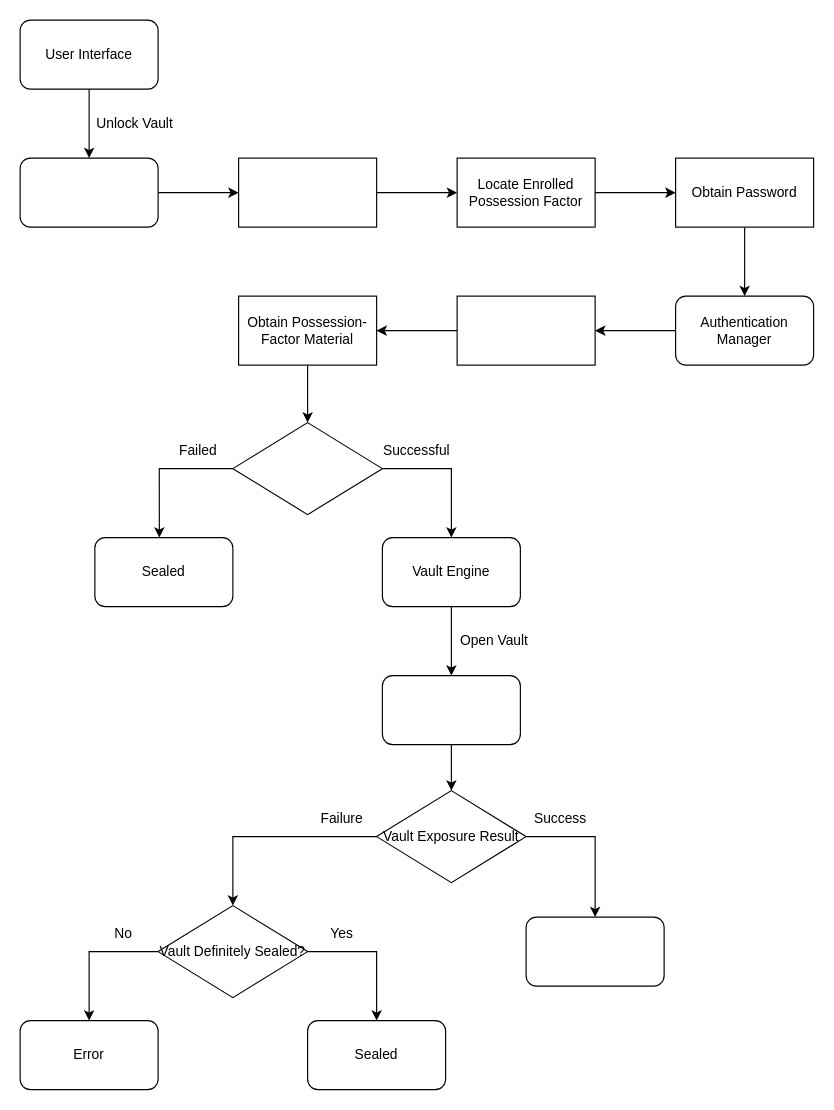
The diagram is 834 pixels wide and 1110 high, and some of its shapes have lost their labels. The shapes that lost their labels are listed below. From the top down, each one's centre as x and y in pixels, then its label:
the point at 88,192: Vault Controller
the point at 307,192: Read Vault Security Metadata
the point at 525,330: Derive Password Material
the point at 307,468: Attempt Normal VMK Unwrap
the point at 450,709: Platform Adapter
the point at 594,951: Unlocked
